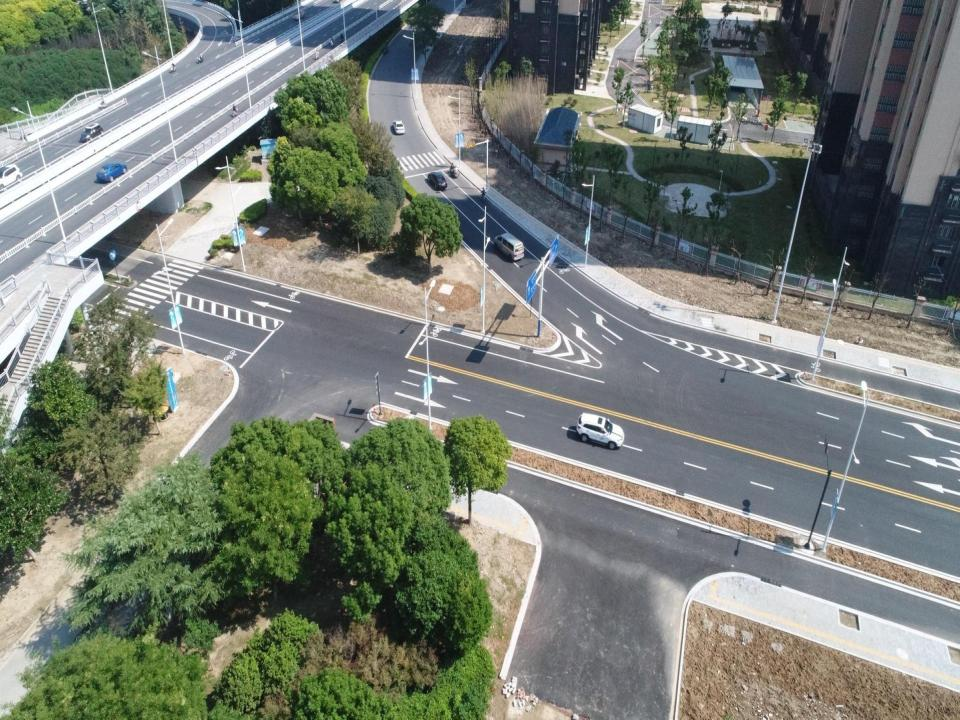car: (577, 412, 623, 450), (492, 233, 526, 261), (95, 161, 128, 181), (1, 166, 22, 192), (426, 169, 448, 189), (78, 124, 102, 142), (392, 118, 406, 136)
